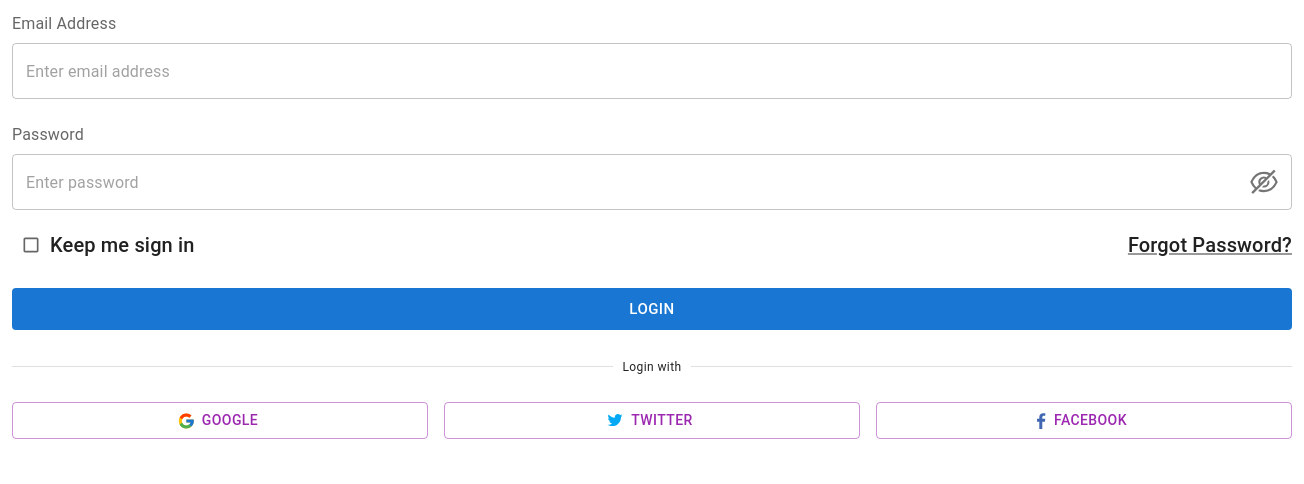
it: Error mess required should show when type empty email
Focus the field with placeholder "Enter email address" at (652, 71), box [12,43,1292,99]
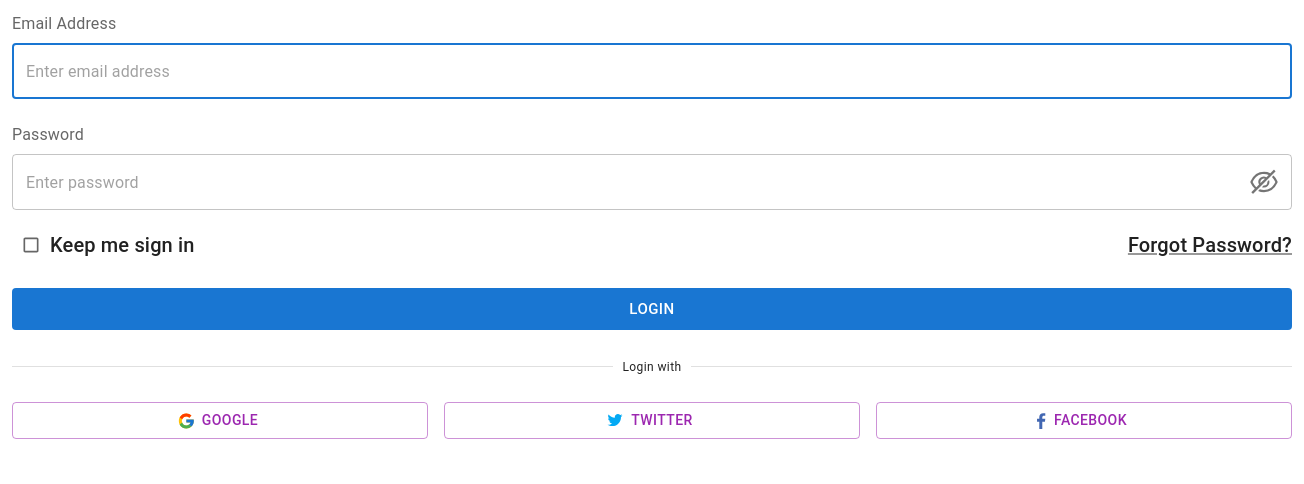
Leave the field with placeholder "Enter email address", box [12,43,1292,99]
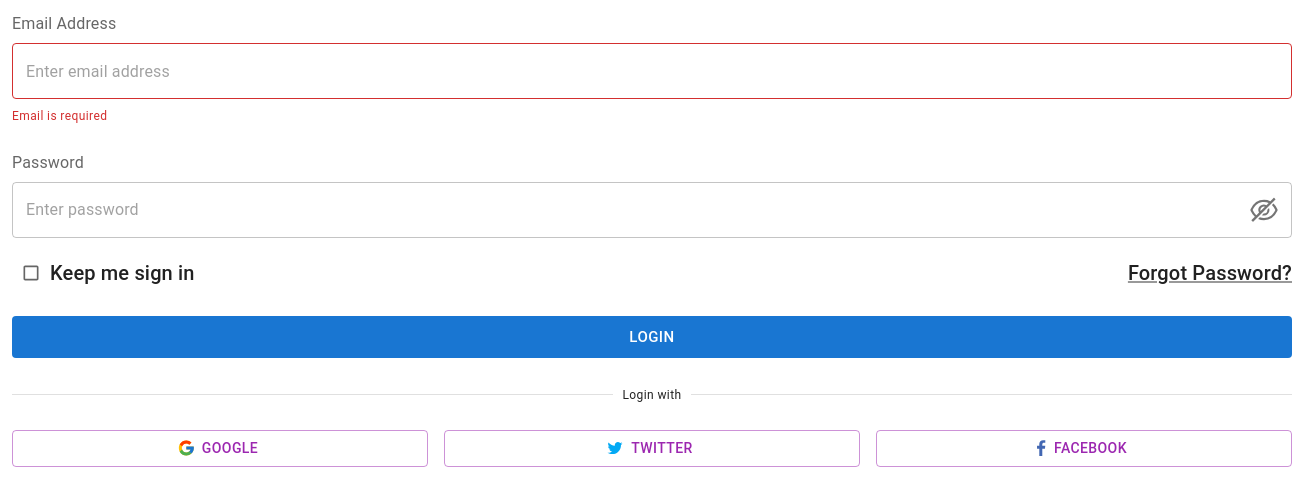
Check: the text "Email is required" is shown, box [12,109,107,123]
